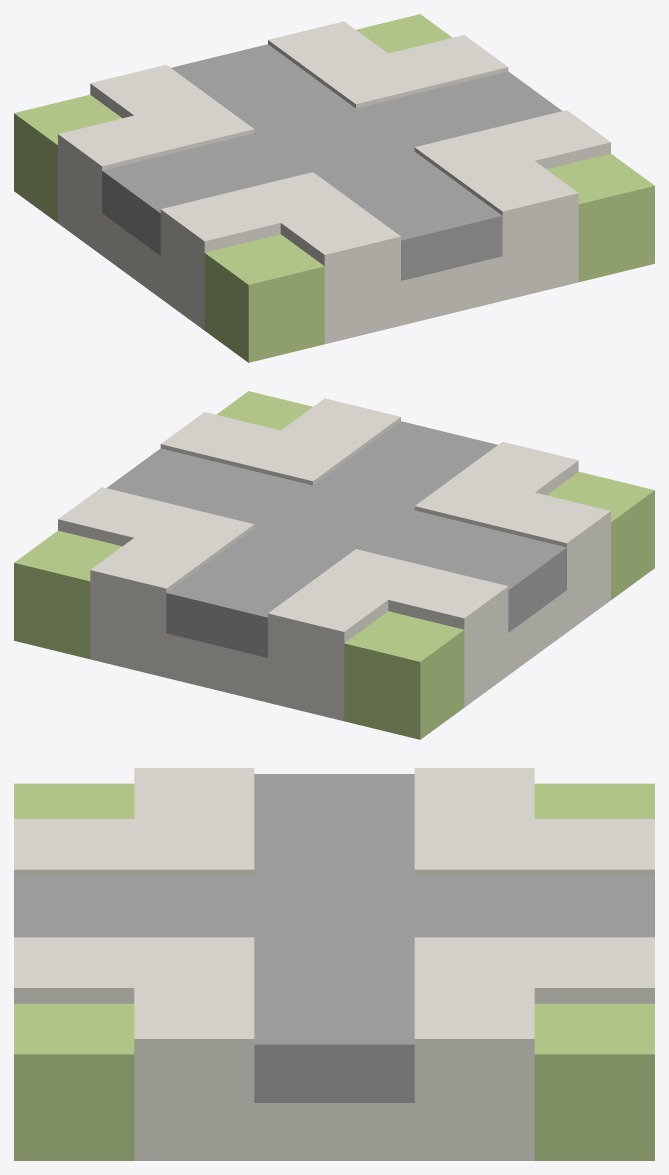
The model's file is tile013.glb.
3 renders of one model, top to bottom at view 1: azimuth 30°, elevation 25°; view 2: azimuth 150°, elevation 25°; view 3: azimuth 270°, elevation 25°, orthographic. The views are drawn at different scales.
Visible parts, largest first — view 1: tile013; view 2: tile013; view 3: tile013.
Boxes of the visible parts, box(x1,y1,x2,y2) form: tile013: box(14, 14, 654, 362); tile013: box(14, 391, 654, 739); tile013: box(14, 768, 654, 1160).
Bounding box in the file's own units: 1 × 0.21 × 1.
